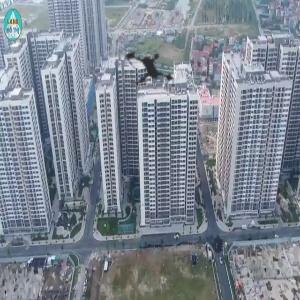drone: (98, 17, 204, 123)
